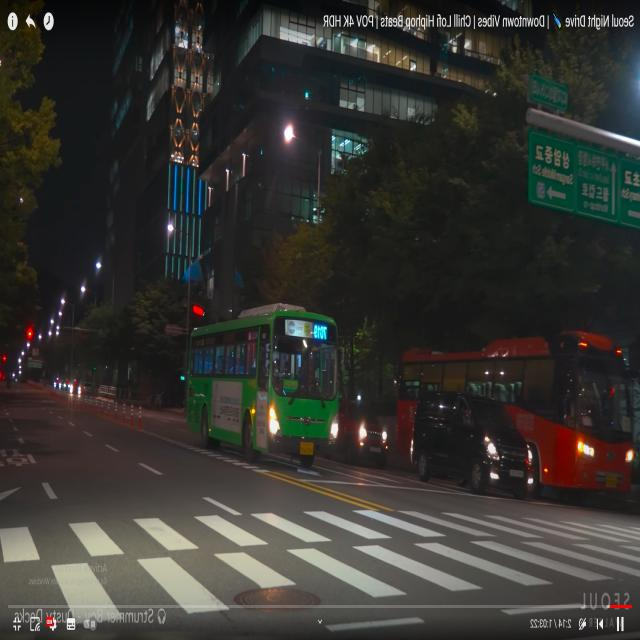headlights: (261, 406, 345, 446), (484, 444, 542, 491), (576, 434, 636, 472), (353, 424, 391, 451)
